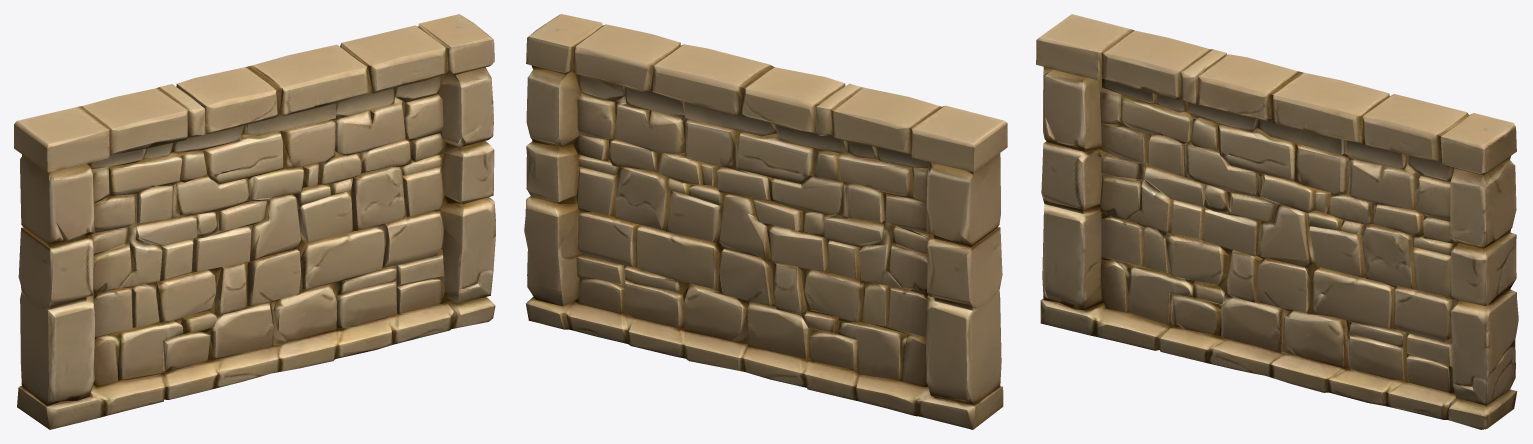
The model's file is m2TempleWallV2.glb.
3 views of the same model, side by side, from view 1: azimuth 30°, elevation 25°; view 2: azimuth 150°, elevation 25°; view 3: azimuth 330°, elevation 25° (orthographic).
Visible parts, largest first — view 1: model; view 2: model; view 3: model.
Part boxes in pixels (x1,y1,x2,y2): model: (14,14,495,429); model: (524,14,1007,429); model: (1036,14,1518,429).
Size of the model in its own units: 1.9 by 1.16 by 0.2563.
Materials: 1 (1 with a texture image).
